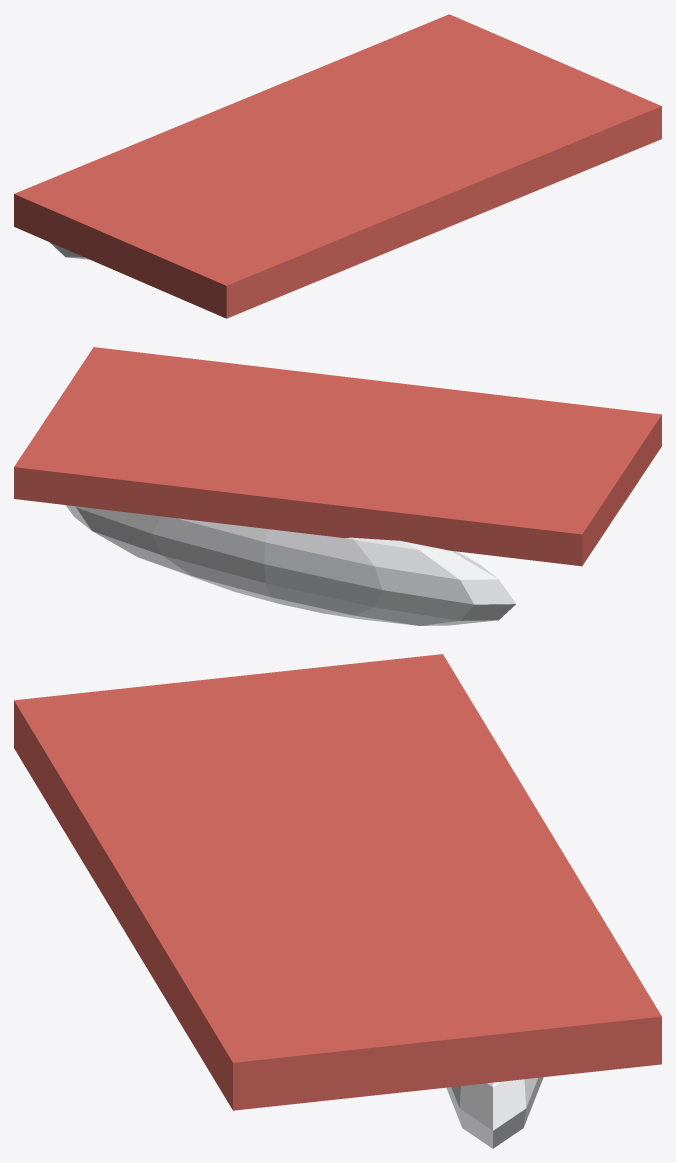
Rendered from awning_snow_lip.glb.
The picture shows the model from 3 angles, top to bottom: view 1: azimuth 30°, elevation 25°; view 2: azimuth 150°, elevation 25°; view 3: azimuth 270°, elevation 25°; orthographic projection. The views are drawn at different scales.
Visible parts, largest first — view 1: awning; view 2: awning, lip; view 3: awning, lip.
Part boxes in pixels (x1,y1,x2,y2): awning: [14, 14, 661, 318]; awning: [14, 347, 661, 566]; lip: [66, 505, 515, 625]; awning: [14, 654, 661, 1110]; lip: [446, 1077, 543, 1148].
Bounding box in the file's own units: 2.19 × 0.4598 × 1.46.
